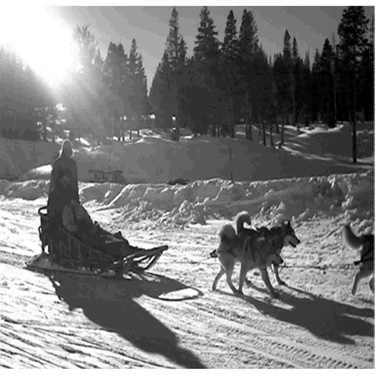dog: (177, 216, 292, 309), (234, 200, 307, 283), (336, 210, 368, 302)
